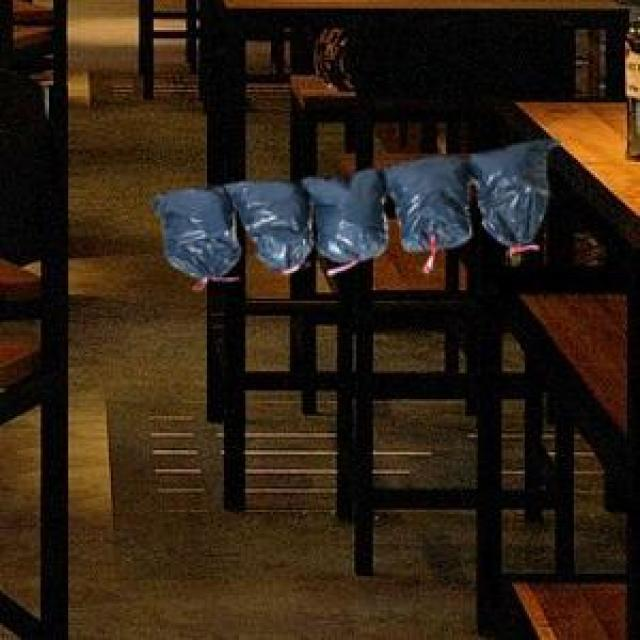waste: (154, 144, 549, 281)
